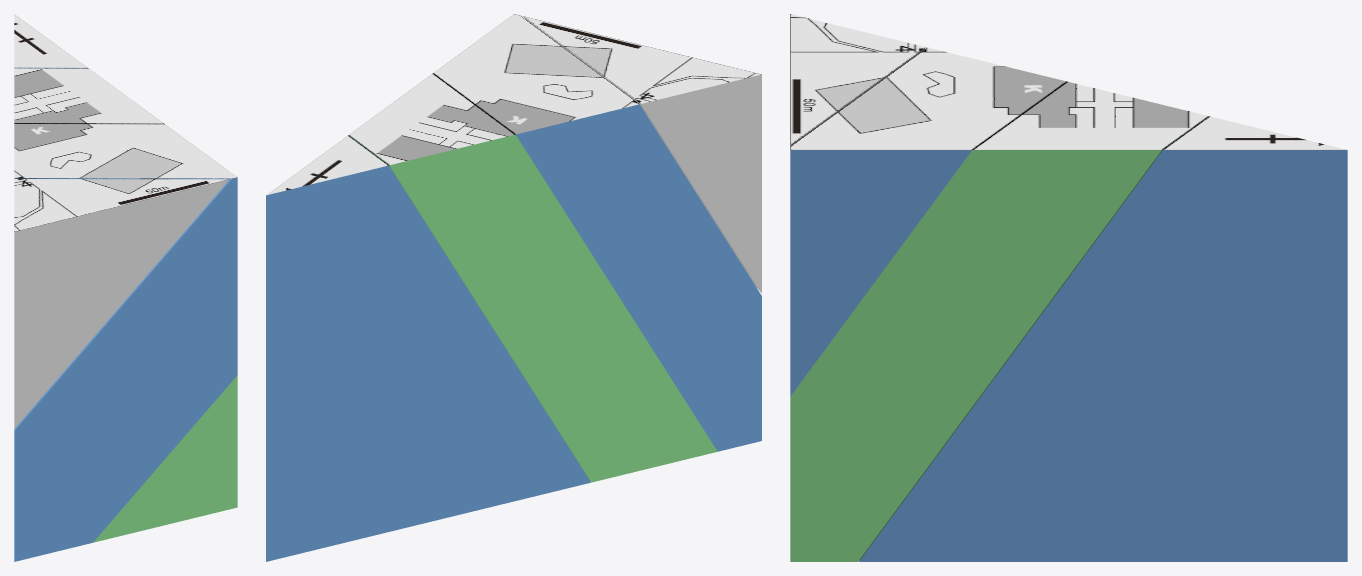
The model's file is ture.glb.
The picture shows the model from 3 angles, left to right: view 1: azimuth 30°, elevation 25°; view 2: azimuth 150°, elevation 25°; view 3: azimuth 270°, elevation 25°; orthographic projection. The views are drawn at different scales.
Visible parts, largest first — view 1: ture; view 2: ture; view 3: ture.
Part boxes in pixels (bbox=[...]): ture: bbox=[14, 14, 237, 561]; ture: bbox=[266, 14, 761, 561]; ture: bbox=[790, 14, 1347, 561].
Bounding box in the file's own units: 2.48 × 3.51 × 4.3.
4 materials, 1 textured.
